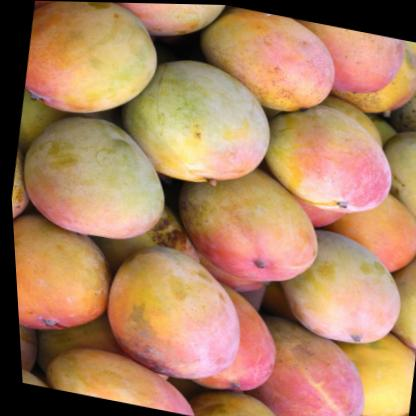mango: (76, 229, 254, 395), (96, 38, 278, 200), (5, 104, 186, 252), (246, 78, 409, 229), (14, 0, 170, 132), (261, 216, 408, 354)
